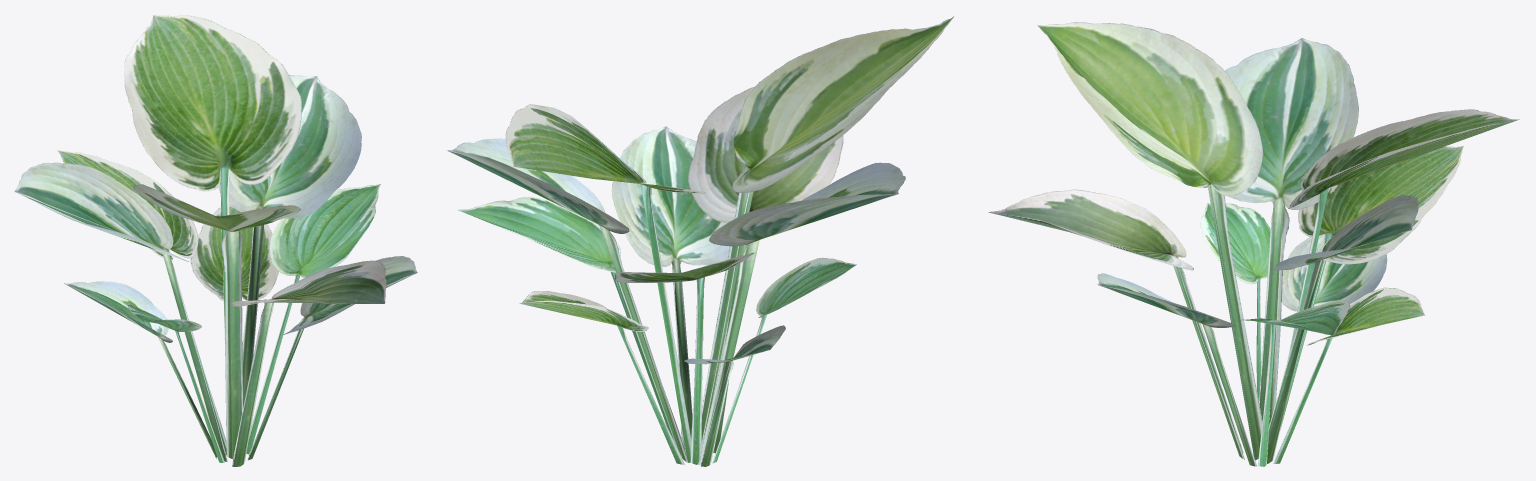
The model's file is plant_small_wg_00C2_wild.fbx.
3 views of the same model, side by side, from view 1: azimuth 30°, elevation 25°; view 2: azimuth 150°, elevation 25°; view 3: azimuth 270°, elevation 25° (orthographic). The views are drawn at different scales.
Parts seen in each view (by area): view 1: plant_small_wg_00C_wild; view 2: plant_small_wg_00C_wild; view 3: plant_small_wg_00C_wild.
Boxes of the visible parts, box(x1,y1,x2,y2) form: plant_small_wg_00C_wild: box(14, 15, 417, 466); plant_small_wg_00C_wild: box(447, 16, 953, 466); plant_small_wg_00C_wild: box(988, 22, 1519, 466).
Bounding box in the file's own units: 53.28 × 46.78 × 61.24.
